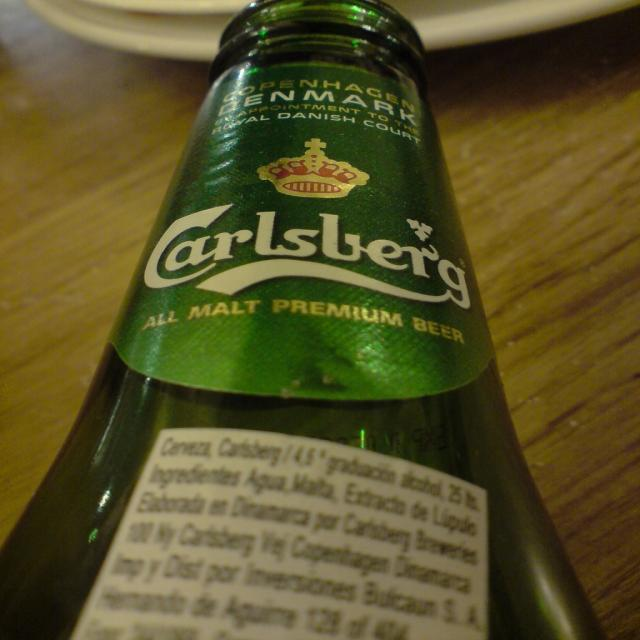carlsberg: (137, 133, 487, 318)
